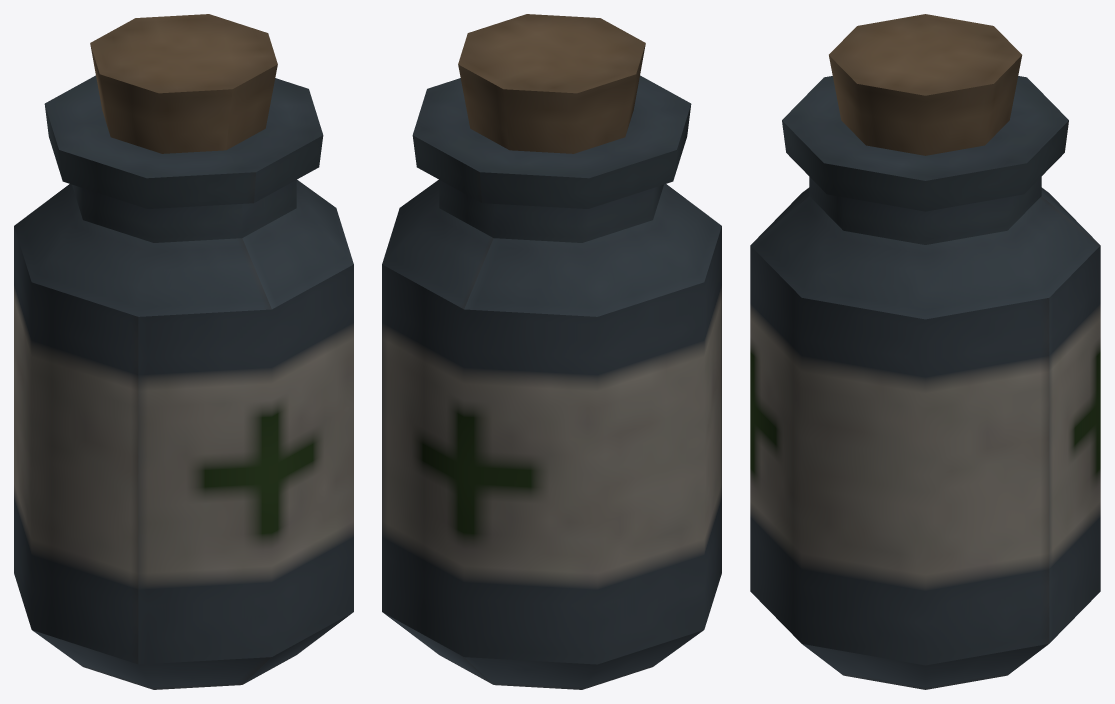
Rendered from healing_potion_mp_1.fbx.
3 renders of one model, left to right at view 1: azimuth 30°, elevation 25°; view 2: azimuth 150°, elevation 25°; view 3: azimuth 270°, elevation 25°, orthographic.
Parts seen in each view (by area): view 1: healing_potion_mp_1; view 2: healing_potion_mp_1; view 3: healing_potion_mp_1.
Part boxes in pixels (x1,y1,x2,y2): healing_potion_mp_1: [14, 14, 353, 689]; healing_potion_mp_1: [382, 14, 721, 689]; healing_potion_mp_1: [750, 14, 1100, 689].
Size of the model in its own units: 0.0581 by 0.1072 by 0.0581.
Materials: 1 (1 with a texture image).
